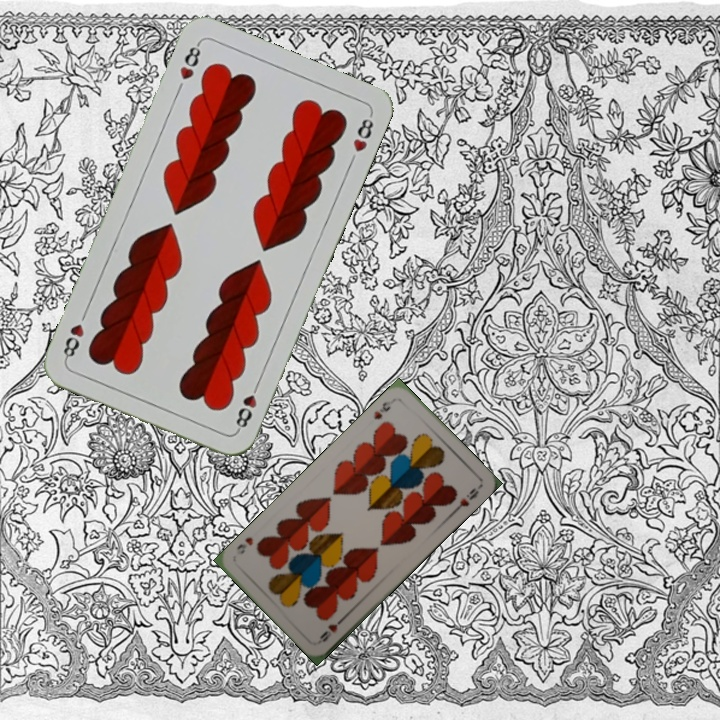H8: (231, 378, 262, 434), (175, 38, 204, 83)
H9: (315, 613, 347, 645), (370, 395, 396, 422)
